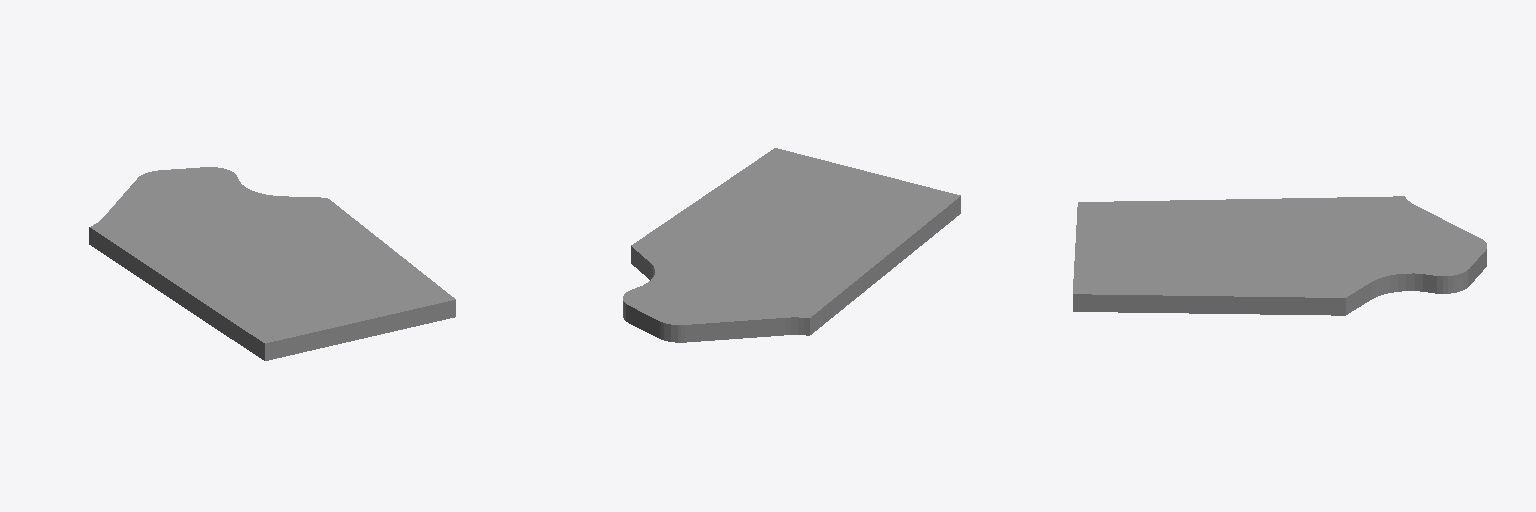
The model's file is Aust_5.obj.
3 views of the same model, side by side, from view 1: azimuth 30°, elevation 25°; view 2: azimuth 150°, elevation 25°; view 3: azimuth 270°, elevation 25° (orthographic).
Visible parts, largest first — view 1: (Unsaved)_Body1_0; view 2: (Unsaved)_Body1_0; view 3: (Unsaved)_Body1_0.
Boxes of the visible parts, x1,y1,x2,y2 form: (Unsaved)_Body1_0: [89, 167, 455, 360]; (Unsaved)_Body1_0: [623, 148, 960, 342]; (Unsaved)_Body1_0: [1073, 196, 1486, 315].
Size of the model in its own units: 2.48 by 0.2 by 4.26.